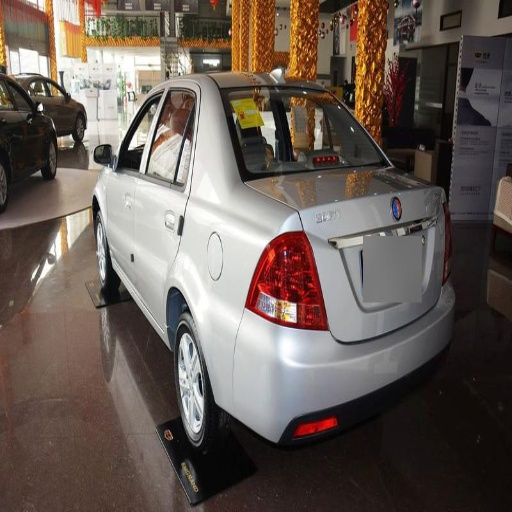back_bumper: (208, 300, 453, 447)
back_glass: (236, 91, 387, 179)
back_left_door: (139, 88, 190, 316)
back_left_light: (245, 228, 327, 329)
tailgate: (248, 164, 443, 340)
